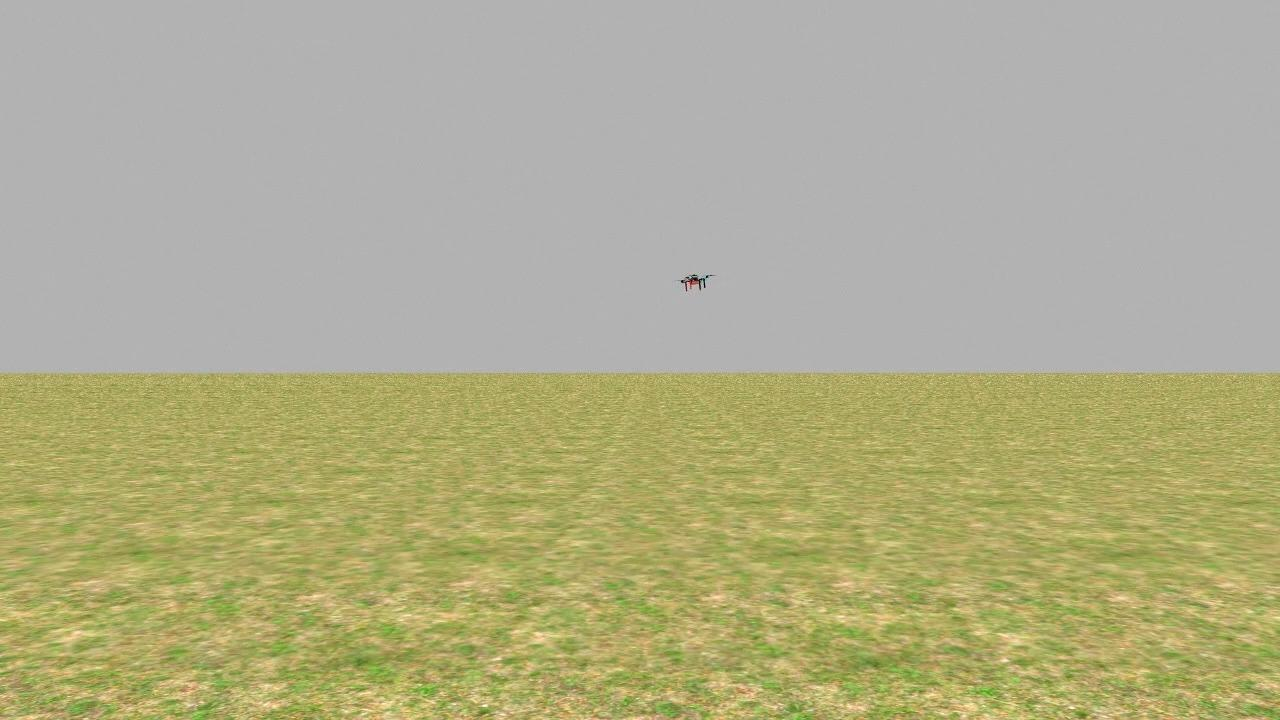UAV: (673, 262, 717, 300)
